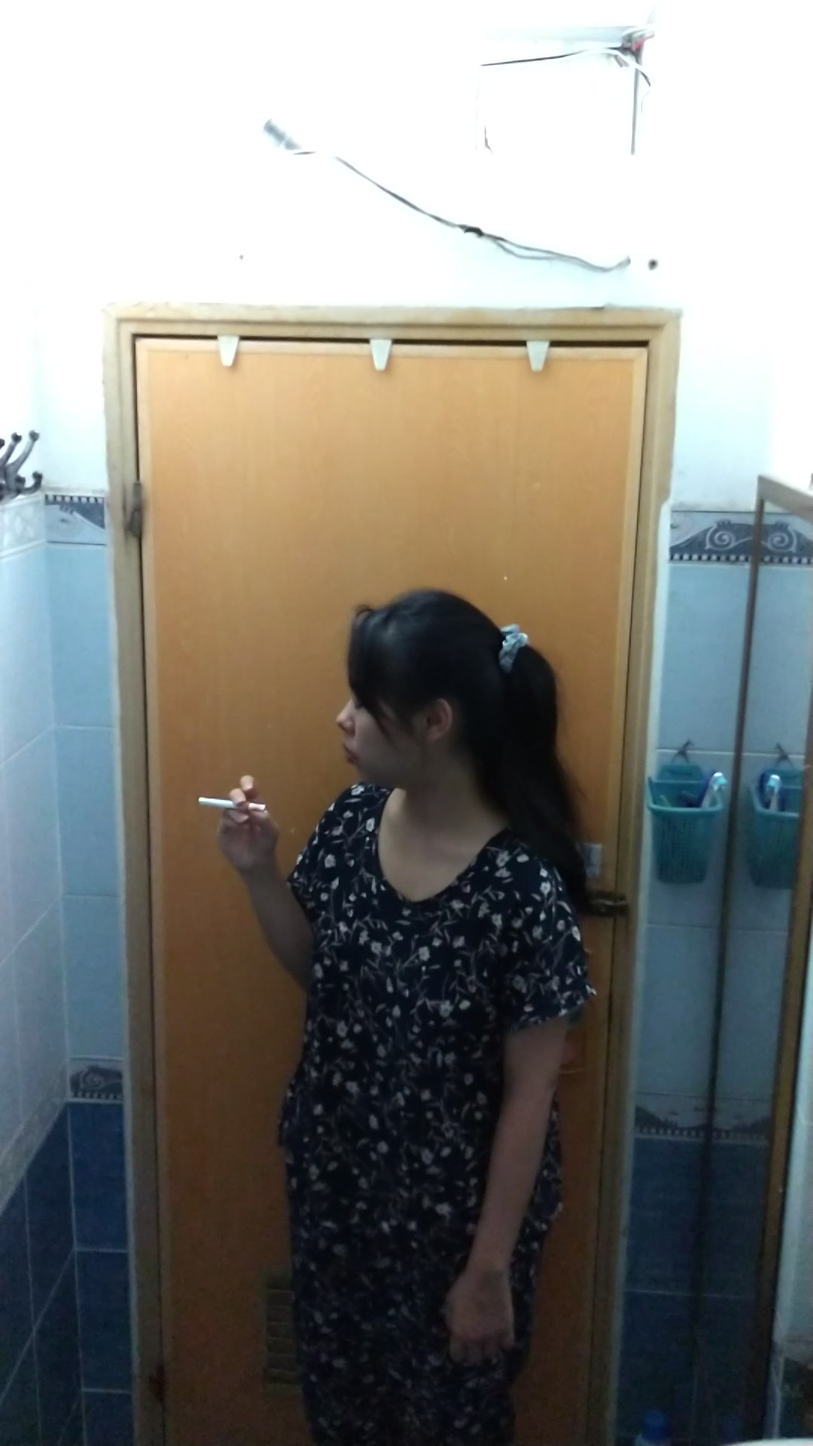cigarette: (193, 792, 235, 813)
person: (201, 578, 607, 1439)
